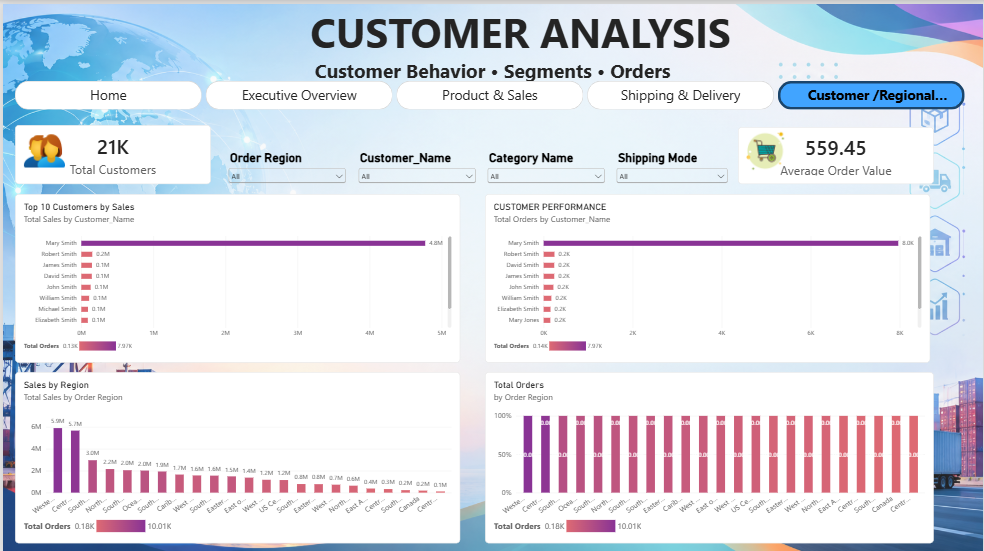

What the dashboard file says about the page in this screenshot:
{"tool":"powerbi","page":{"name":"Customer /Regional Analysis","canvas":[1920,1080],"ordinal":4},"visuals":[{"type":"textbox","box":[0,0,1919.8,170.1],"z":0},{"type":"card","fields":{"Values":["Measures (2).Total Customers"]},"box":[24.1,237.3,384,116],"z":1000},{"type":"image","box":[36.1,247,91.7,82.3],"z":2000},{"type":"card","fields":{"Values":["Measures (2).Average Order Value"]},"box":[1441,241,384,112],"z":3000},{"type":"image","box":[1425.3,241,138.1,93.5],"z":4000},{"type":"slicer","fields":{"Values":["Dim_Order.Order Region"]},"box":[437.1,287.8,240,68],"z":5000},{"type":"slicer","fields":{"Values":["Fact_Supply_Chain_Dataset.Shipping Mode"]},"box":[1198,287.8,228,78],"z":6000},{"type":"slicer","fields":{"Values":["Dim_Customers.Customer_Name"]},"box":[691.2,287.8,240,68],"z":7000},{"type":"slicer","fields":{"Values":["Dim_Product.Category Name"]},"box":[944.4,287.8,240,68],"z":8000},{"type":"pageNavigator","box":[23.5,151,1866.7,56.9],"z":9000},{"type":"clusteredBarChart","title":"Top 10 Customers by Sales","fields":{"Category":["Dim_Customers.Customer_Name"],"Y":["Measures (2).Total Sales"]},"box":[24.4,373.3,873.3,331.1],"z":9001},{"type":"clusteredBarChart","title":"CUSTOMER PERFORMANCE  ","fields":{"Category":["Dim_Customers.Customer_Name"],"Y":["Measures (2).Total Orders"]},"box":[944.4,373.3,873.3,331.1],"z":9002},{"type":"columnChart","title":"Sales by Region","fields":{"Category":["Dim_Order.Order Region"],"Y":["Measures (2).Total Sales"]},"box":[24.4,722.2,873.3,335.6],"z":9003},{"type":"hundredPercentStackedColumnChart","fields":{"Category":["Dim_Order.Order Region"],"Y":["Measures (2).Total Orders"]},"box":[944.4,722.2,880,335.6],"z":9004}]}

Visuals, with their boxes in screenshot pixels (x1, y1, x2, y2), scaled from the page's 1920x1080 canvas onto the 984x551 screenshot:
textbox: pyautogui.locateOnScreen(0, 0, 983, 87)
card - Measures (2).Total Customers: pyautogui.locateOnScreen(12, 121, 209, 180)
image: pyautogui.locateOnScreen(19, 126, 65, 168)
card - Measures (2).Average Order Value: pyautogui.locateOnScreen(739, 123, 935, 180)
image: pyautogui.locateOnScreen(730, 123, 801, 171)
slicer - Dim_Order.Order Region: pyautogui.locateOnScreen(224, 147, 347, 182)
slicer - Fact_Supply_Chain_Dataset.Shipping Mode: pyautogui.locateOnScreen(614, 147, 731, 187)
slicer - Dim_Customers.Customer_Name: pyautogui.locateOnScreen(354, 147, 477, 182)
slicer - Dim_Product.Category Name: pyautogui.locateOnScreen(484, 147, 607, 182)
pageNavigator: pyautogui.locateOnScreen(12, 77, 969, 106)
"Top 10 Customers by Sales" clusteredBarChart: pyautogui.locateOnScreen(13, 190, 460, 359)
"CUSTOMER PERFORMANCE  " clusteredBarChart: pyautogui.locateOnScreen(484, 190, 932, 359)
"Sales by Region" columnChart: pyautogui.locateOnScreen(13, 368, 460, 540)
hundredPercentStackedColumnChart - Dim_Order.Order Region x Measures (2).Total Orders: pyautogui.locateOnScreen(484, 368, 935, 540)
